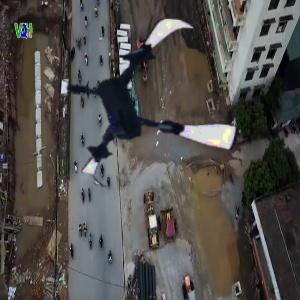drone: (61, 14, 244, 197)
